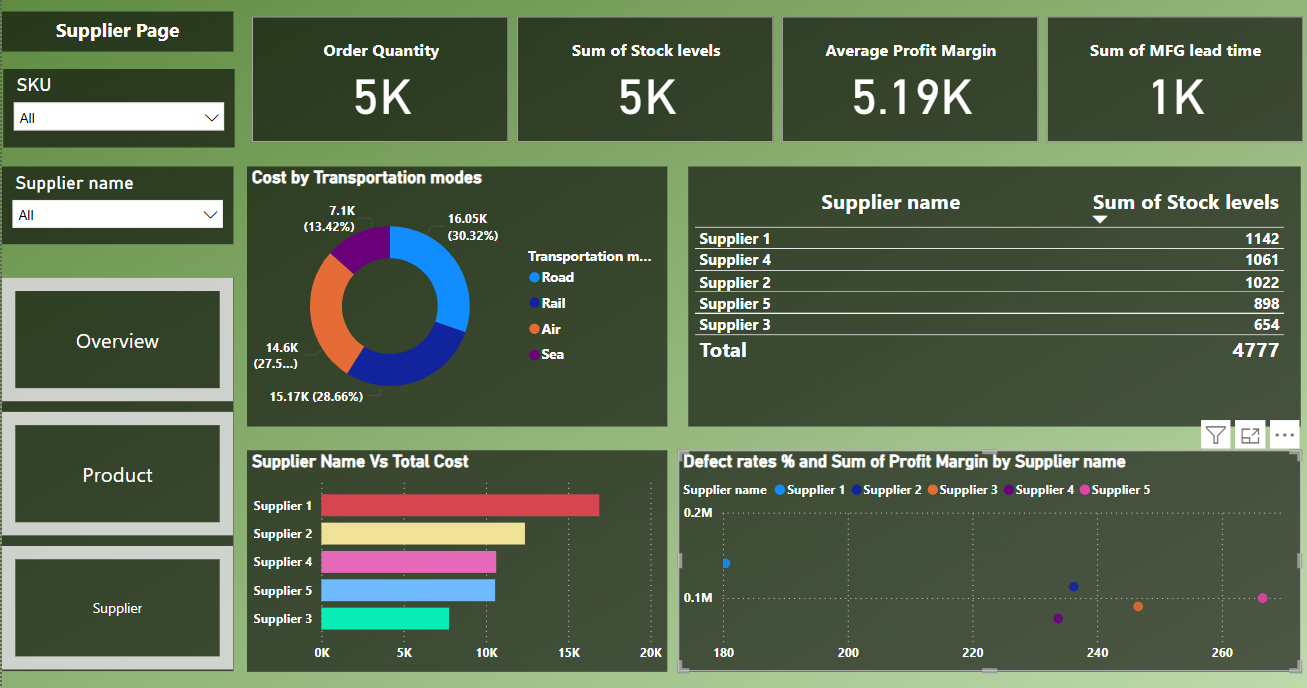

Layout of this report page (visuals, bound fields, positions):
{"tool":"powerbi","page":{"name":"Supplier","canvas":[1280,720],"ordinal":2},"visuals":[{"type":"cardVisual","fields":{"Data":["Supply chain data.Order Quantity","Sum(Supply chain data.Stock levels)","Supply chain data.Average Profit Margin","Sum(Supply chain data.MFG lead time)"]},"box":[239.7,31.8,1040.6,133.3],"z":0},{"type":"donutChart","title":"Cost by Transportation modes","fields":{"Y":["Sum(Supply chain data.Costs)"],"Category":["Supply chain data.Transportation modes"]},"box":[239.7,183.4,410.9,254.3],"z":1000},{"type":"barChart","title":"Supplier Name Vs Total Cost","fields":{"Category":["Supply chain data.Supplier name"],"Y":["Supply chain data.Total Cost"]},"box":[239.7,461,410.9,216.4],"z":2000},{"type":"tableEx","fields":{"Values":["Supply chain data.Supplier name","Sum(Supply chain data.Stock levels)"]},"box":[671.3,183.4,599.2,254.3],"z":3000},{"type":"scatterChart","title":"Defect rates % and Sum of Profit Margin by Supplier name","fields":{"Y":["Sum(Supply chain data.Profit Margin)"],"Series":["Supply chain data.Supplier name"],"X":["Supply chain data.Defect Rate %"]},"box":[661.6,461,609,216.4],"z":4000},{"type":"pageNavigator","box":[0,292.3,226.2,385.2],"z":5000},{"type":"slicer","fields":{"Values":["Supply chain data.SKU"]},"box":[1.2,88,226.2,77],"z":6000},{"type":"slicer","fields":{"Values":["Supply chain data.Supplier name"]},"box":[0,183.4,226.2,75.8],"z":7000},{"type":"textbox","box":[0,31.8,226.2,39.1],"z":7001}]}

Visuals, with their boxes on the page's 1280x720 design canvas (x1, y1, x2, y2). These are canvas units, not pixel positions in the 1307x688 screenshot, which may show the page scaled, cropped or inside an application window:
cardVisual - Supply chain data.Order Quantity x Sum(Supply chain data.Stock levels): x1=240, y1=32, x2=1280, y2=165
"Cost by Transportation modes" donutChart: x1=240, y1=183, x2=651, y2=438
"Supplier Name Vs Total Cost" barChart: x1=240, y1=461, x2=651, y2=677
tableEx - Supply chain data.Supplier name x Sum(Supply chain data.Stock levels): x1=671, y1=183, x2=1270, y2=438
"Defect rates % and Sum of Profit Margin by Supplier name" scatterChart: x1=662, y1=461, x2=1271, y2=677
pageNavigator: x1=0, y1=292, x2=226, y2=678
slicer - Supply chain data.SKU: x1=1, y1=88, x2=227, y2=165
slicer - Supply chain data.Supplier name: x1=0, y1=183, x2=226, y2=259
textbox: x1=0, y1=32, x2=226, y2=71
